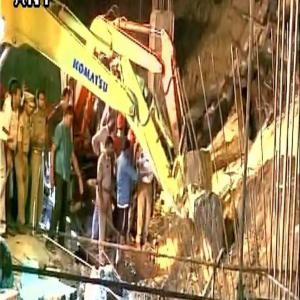none: (10, 81, 22, 109), (62, 87, 73, 110), (64, 106, 75, 128), (36, 87, 46, 111), (105, 135, 114, 157), (25, 98, 35, 117), (123, 139, 132, 157)
red: (117, 114, 125, 134)
